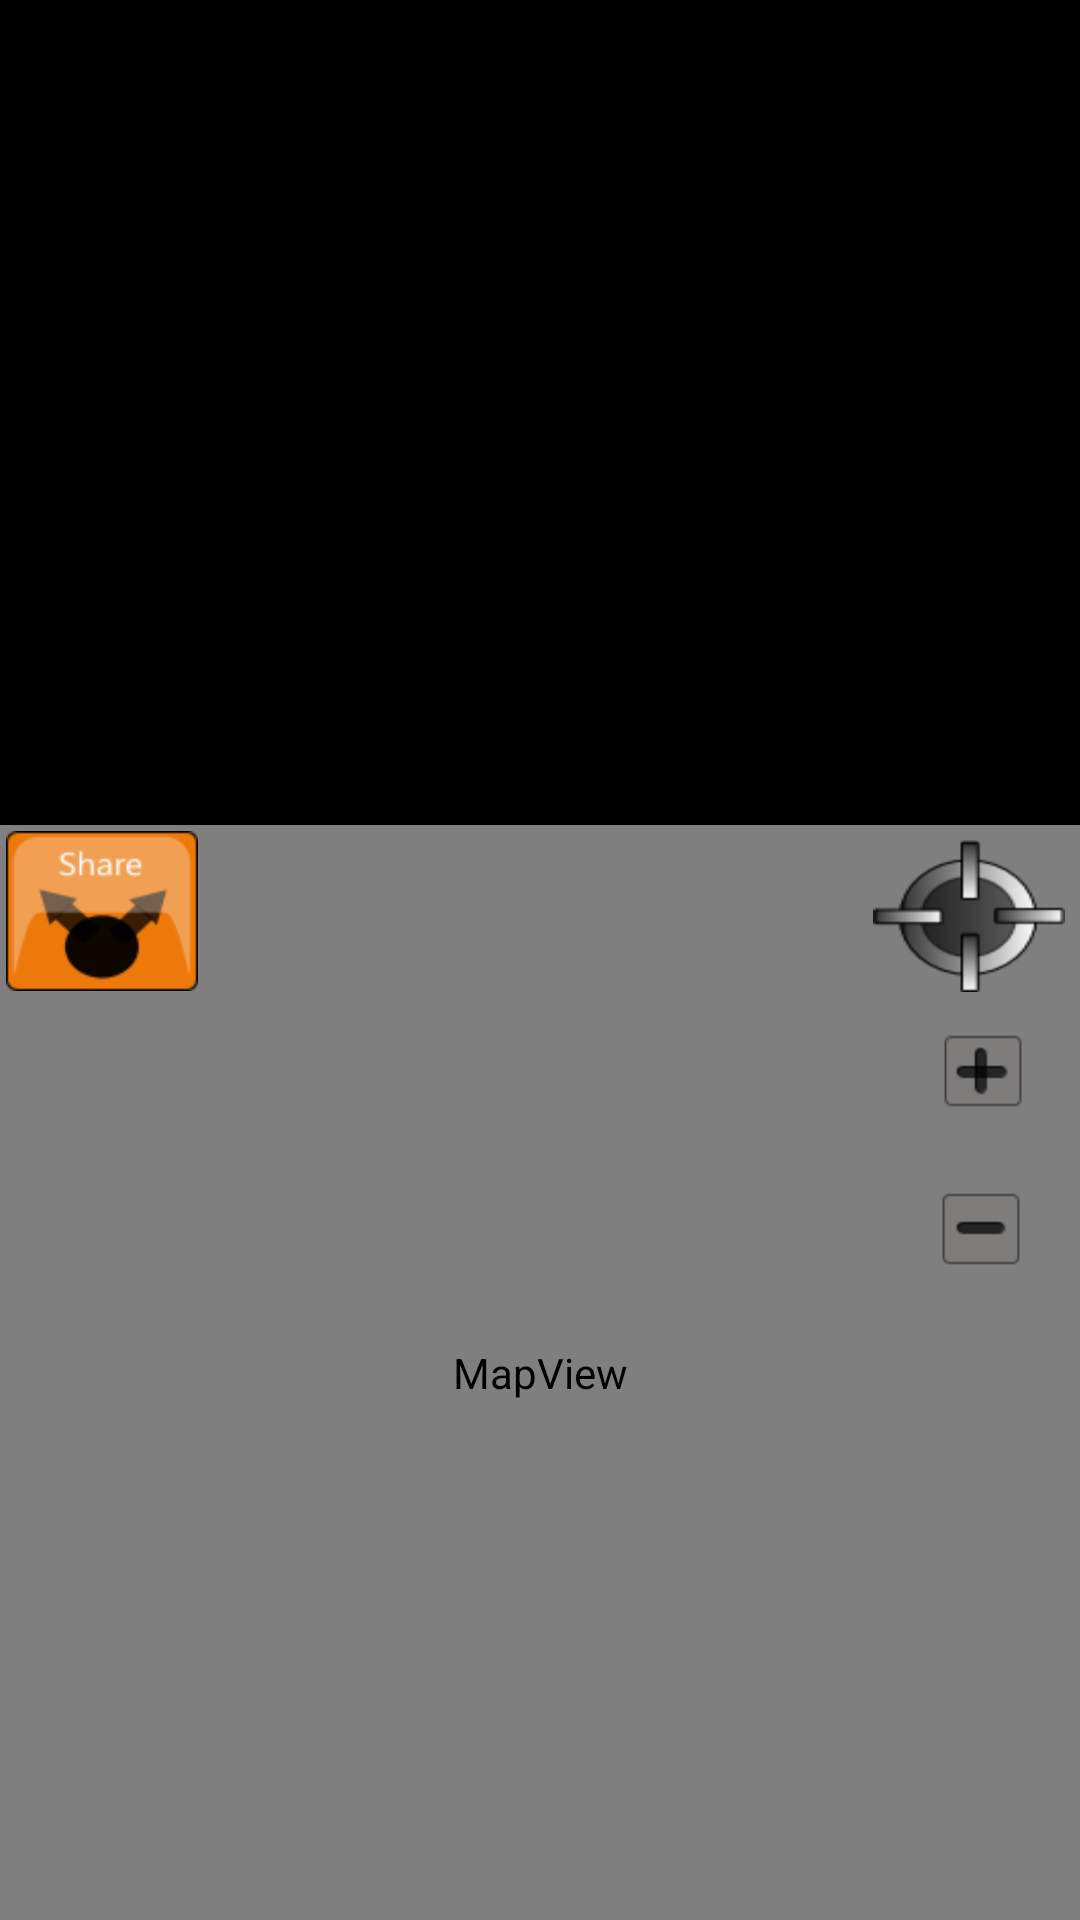

Named icons in this screenshot (1080 × 1920) and their bounding boxes, BBox(x1, y1, x2, y2):
geocam target relocate: BBox(873, 840, 1065, 992)
geocamzoomin: BBox(944, 1036, 1022, 1106)
geocamzoomout: BBox(942, 1194, 1020, 1264)
